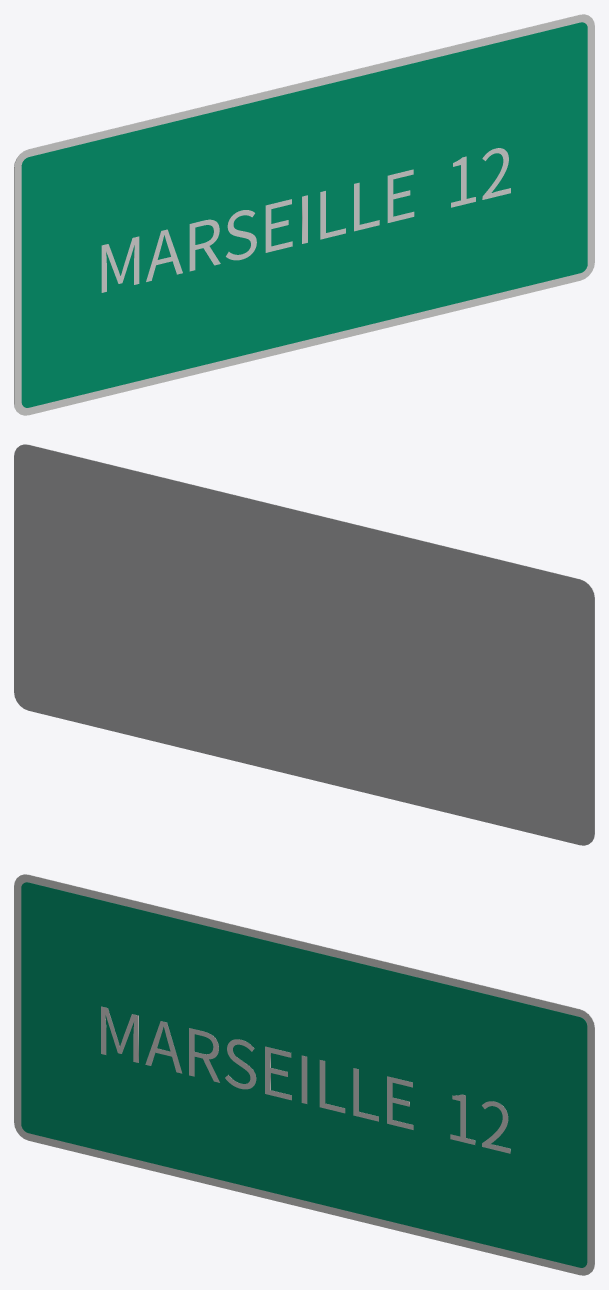
3 renders of one model, top to bottom at view 1: azimuth 30°, elevation 25°; view 2: azimuth 150°, elevation 25°; view 3: azimuth 330°, elevation 25°, orthographic.
Visible parts, largest first — view 1: D63d_fond01, D63d_cadre00, D63d_txt02, D63d_dos; view 2: D63d_dos; view 3: D63d_fond01, D63d_cadre00, D63d_txt02, D63d_dos.
Boxes of the visible parts, x1,y1,x2,y2 form: D63d_fond01: [21, 22, 587, 407]; D63d_cadre00: [14, 14, 594, 415]; D63d_txt02: [101, 148, 510, 292]; D63d_dos: [14, 14, 584, 409]; D63d_dos: [14, 444, 594, 845]; D63d_fond01: [21, 882, 587, 1267]; D63d_cadre00: [14, 874, 594, 1275]; D63d_txt02: [101, 1006, 510, 1153]; D63d_dos: [24, 874, 594, 1269].
Bounding box in the file's own units: 1.6 × 0.7 × 0.0025.
